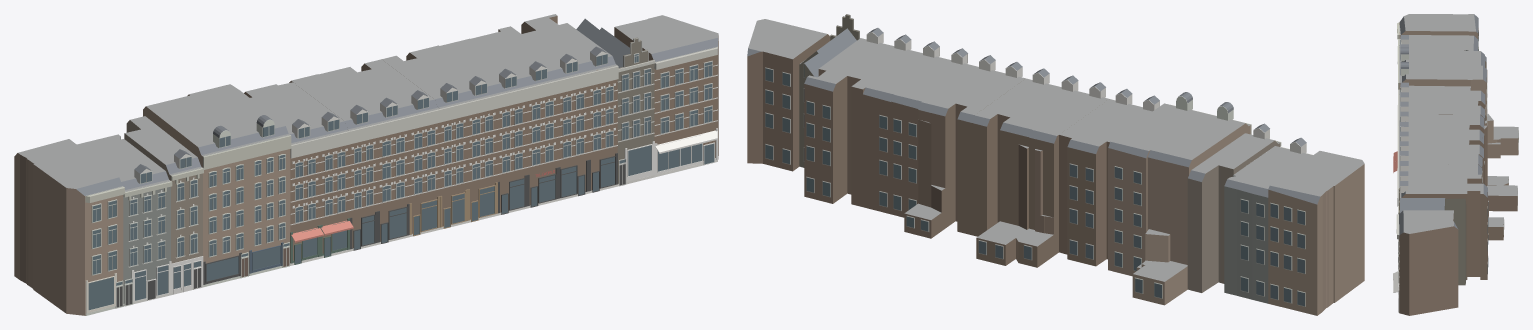
File: chunk-face-kinker-2-30.glb
3 renders of one model, left to right at view 1: azimuth 30°, elevation 25°; view 2: azimuth 150°, elevation 25°; view 3: azimuth 270°, elevation 25°, orthographic. The views are drawn at different scales.
Visible parts, largest first — view 1: face-kinker-2-30; view 2: face-kinker-2-30; view 3: face-kinker-2-30.
Boxes of the visible parts, x1,y1,x2,y2 form: face-kinker-2-30: (14,14,718,315); face-kinker-2-30: (747,14,1364,315); face-kinker-2-30: (1393,14,1518,315).
Bounding box in the file's own units: 86.05 × 18.94 × 21.12.
